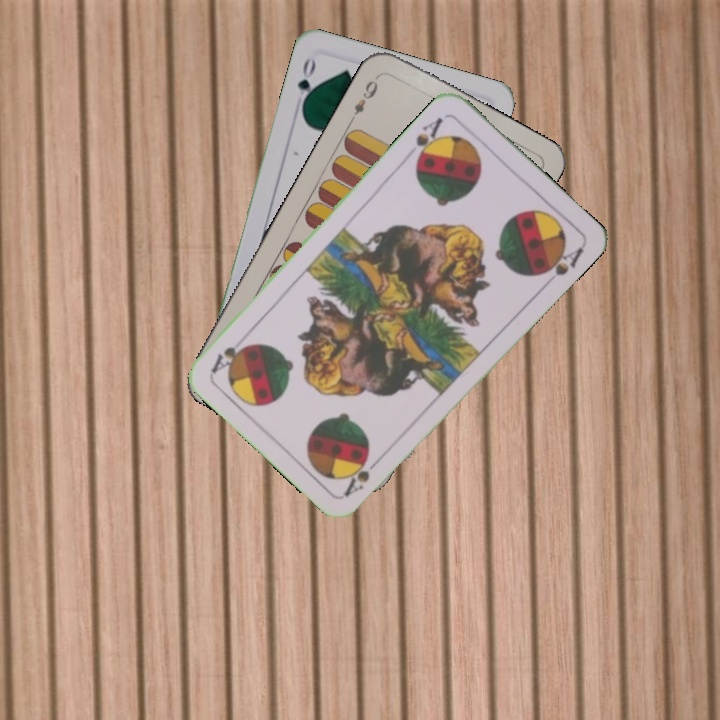E9: (346, 71, 382, 125)
GO: (293, 54, 319, 112)
SA: (340, 450, 386, 499), (411, 113, 446, 166)
